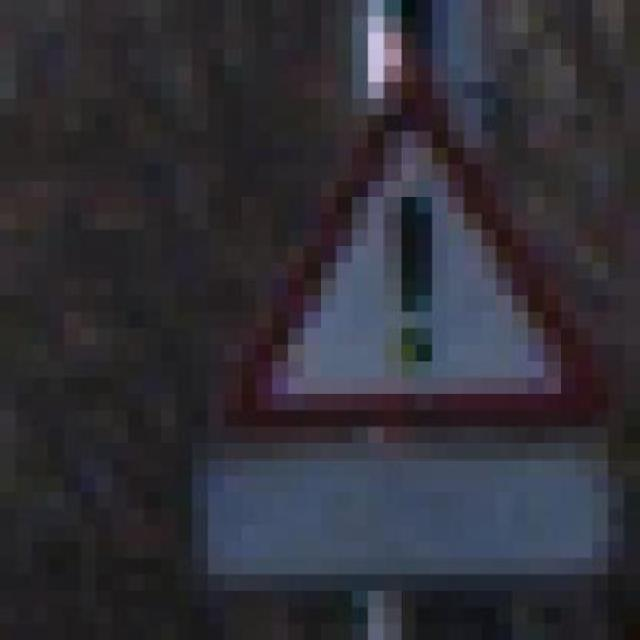Attention Please-: (176, 65, 609, 427)
